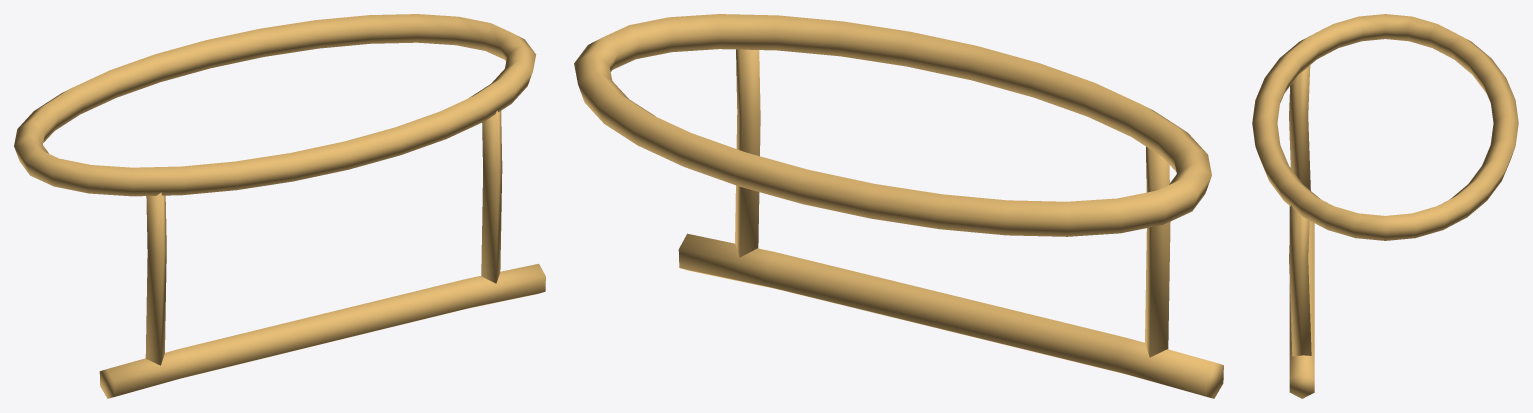
Rendered from head-halo.glb.
The picture shows the model from 3 angles, left to right: view 1: azimuth 30°, elevation 25°; view 2: azimuth 150°, elevation 25°; view 3: azimuth 270°, elevation 25°; orthographic projection. The views are drawn at different scales.
Visible parts, largest first — view 1: accessory_halo; view 2: accessory_halo; view 3: accessory_halo.
Boxes of the visible parts, x1,y1,x2,y2 form: accessory_halo: (14,14,545,398); accessory_halo: (574,14,1223,398); accessory_halo: (1252,14,1518,398).
Bounding box in the file's own units: 0.4169 × 0.176 × 0.2209.
